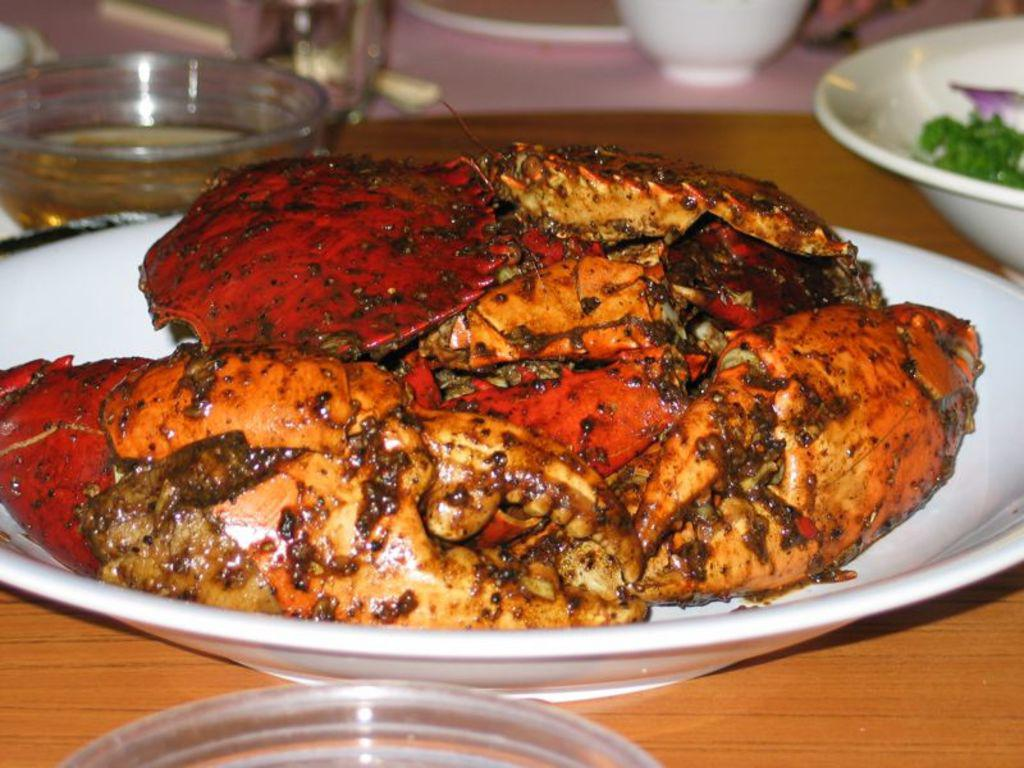Crab: (0, 146, 989, 626)
